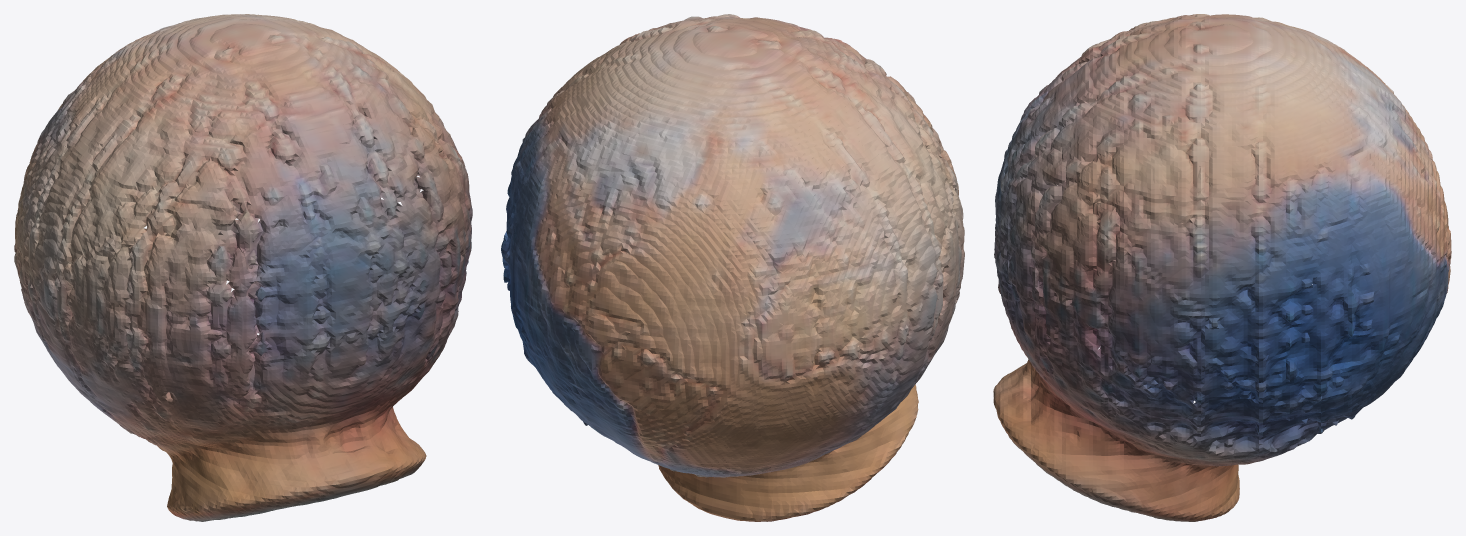
3 views of the same model, side by side, from view 1: azimuth 30°, elevation 25°; view 2: azimuth 150°, elevation 25°; view 3: azimuth 270°, elevation 25° (orthographic). The views are drawn at different scales.
Parts seen in each view (by area): view 1: world; view 2: world; view 3: world.
Part boxes in pixels (box(x1,y1,x2,y2)): world: box(14, 14, 472, 521); world: box(501, 14, 964, 521); world: box(993, 14, 1451, 521).
Bounding box in the file's own units: 0.8068 × 0.9063 × 0.8089.
